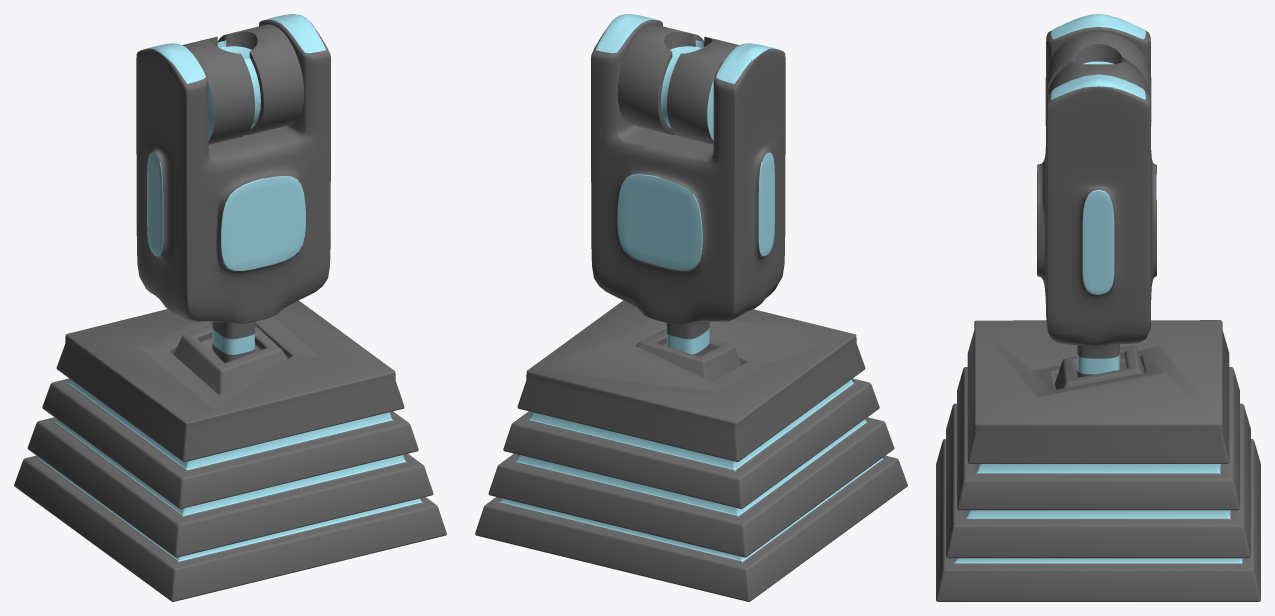
Rendered from Blue.fbx.
The picture shows the model from 3 angles, left to right: view 1: azimuth 30°, elevation 25°; view 2: azimuth 150°, elevation 25°; view 3: azimuth 270°, elevation 25°; orthographic projection. The views are drawn at different scales.
Visible parts, largest first — view 1: Base, JointY, JointX; view 2: Base, JointY, JointX; view 3: Base, JointY, JointX.
Part boxes in pixels (box(x1,y1,x2,y2)): Base: box(14, 300, 446, 601); JointY: box(136, 14, 330, 362); JointX: box(182, 24, 304, 144); Base: box(475, 300, 907, 601); JointY: box(591, 14, 785, 356); JointX: box(617, 24, 739, 144); Base: box(936, 320, 1260, 601); JointY: box(1037, 14, 1156, 377); JointX: box(1045, 31, 1151, 125).
Size of the model in its own units: 93.19 by 154 by 93.19.
